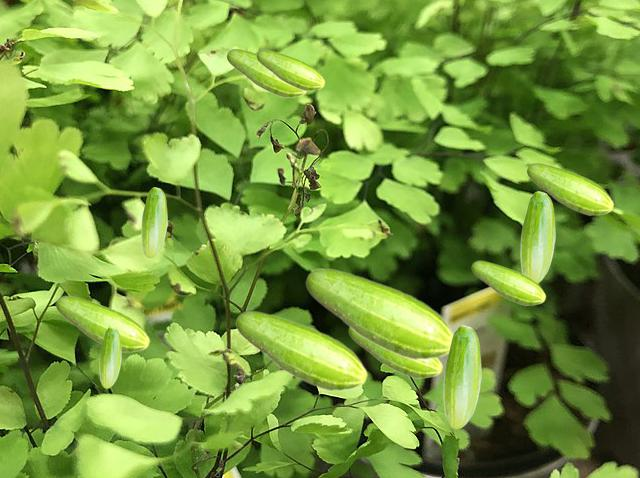cucumber: (305, 267, 453, 360), (235, 310, 367, 391), (55, 295, 149, 352), (348, 327, 442, 378), (526, 162, 613, 215), (226, 48, 307, 97), (443, 325, 480, 428), (471, 260, 545, 305), (520, 191, 554, 282), (256, 49, 324, 90), (141, 187, 166, 256), (99, 327, 120, 387)
